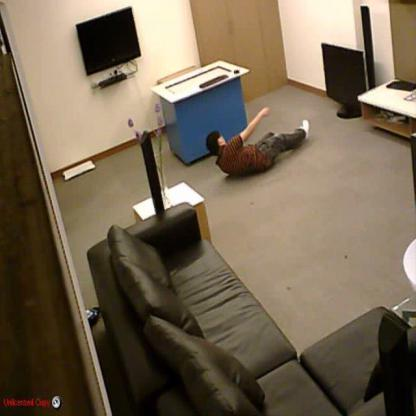Person: (205, 107, 310, 176)
